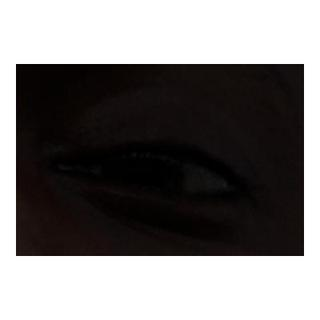pupil: (124, 156, 162, 194)
